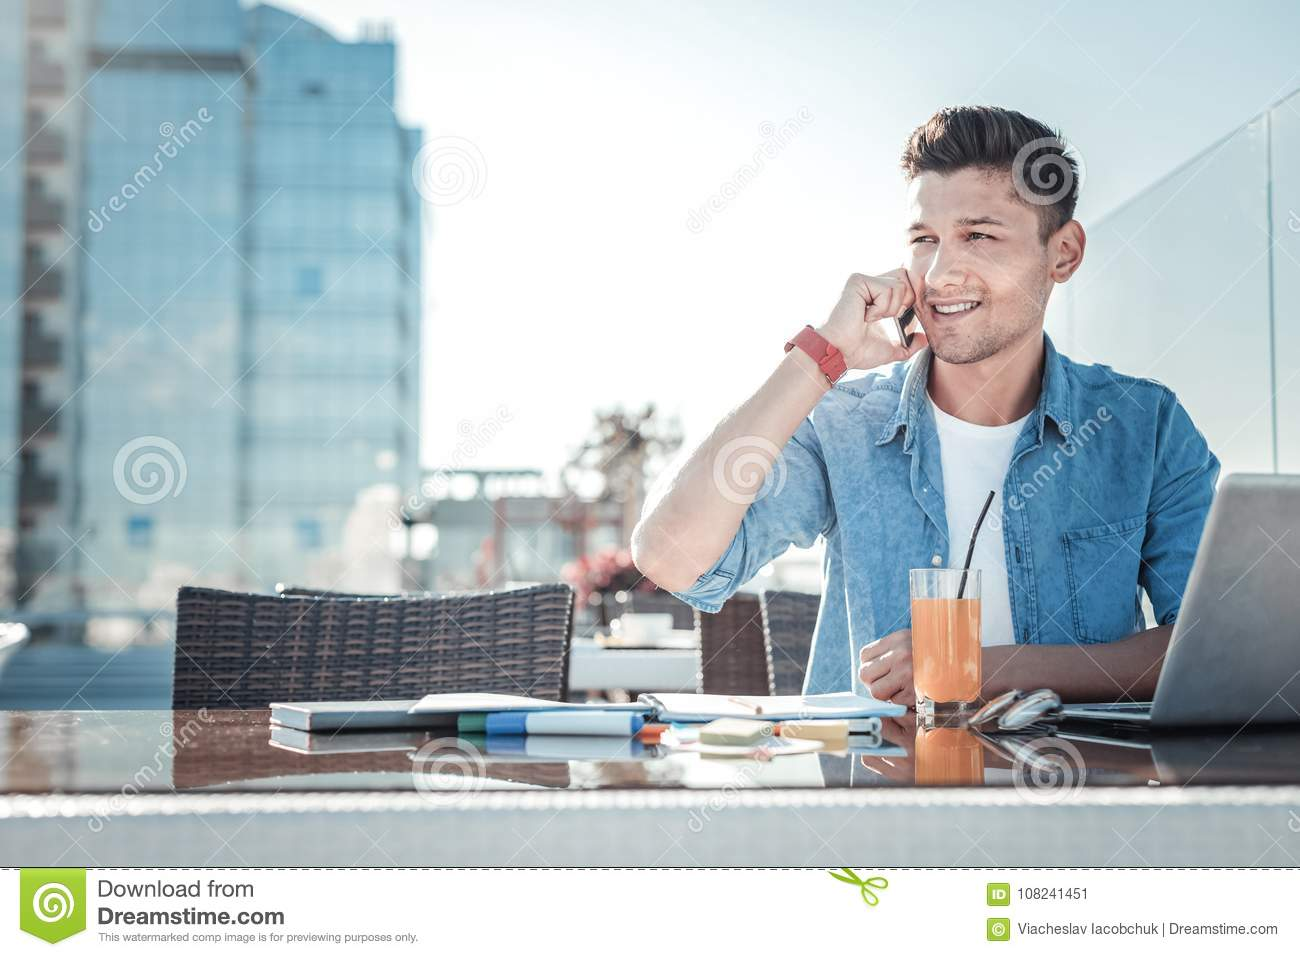phone: (884, 241, 917, 355)
talk: (827, 206, 1030, 377)
